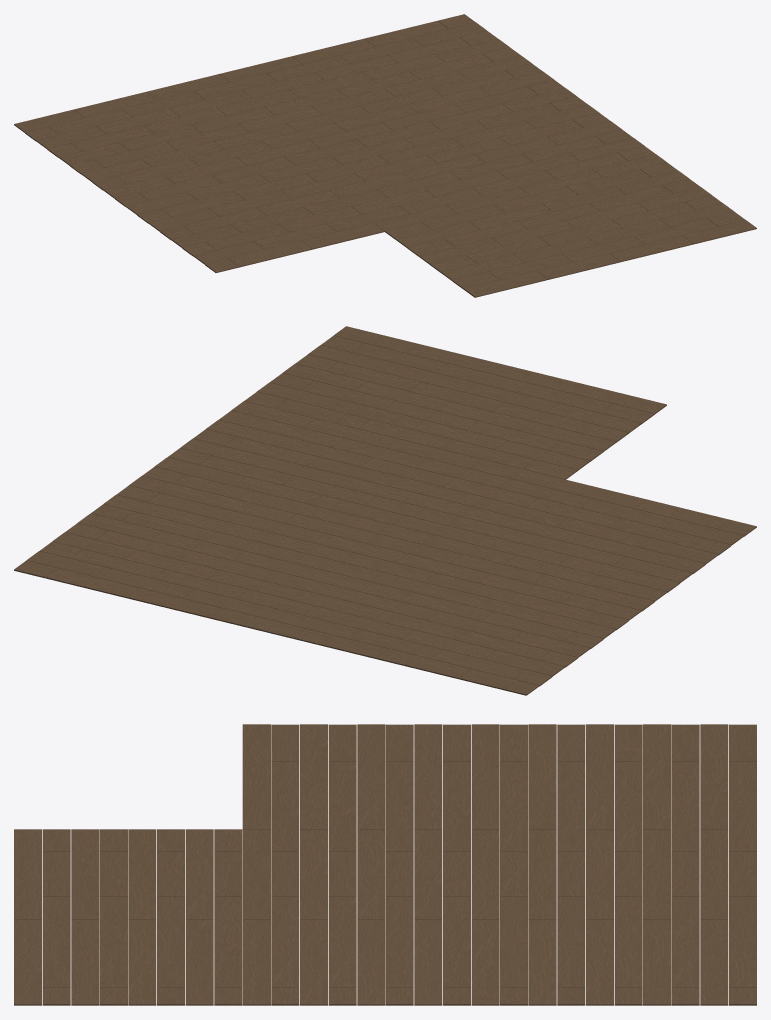
Rendered from floorboards.fbx.
The picture shows the model from 3 angles, top to bottom: view 1: azimuth 30°, elevation 25°; view 2: azimuth 150°, elevation 25°; view 3: azimuth 270°, elevation 25°; orthographic projection. The views are drawn at different scales.
Parts seen in each view (by area): view 1: floorboards; view 2: floorboards; view 3: floorboards.
Part boxes in pixels (x1=…): floorboards: x1=14, y1=14, x2=756, y2=297; floorboards: x1=14, y1=326, x2=756, y2=695; floorboards: x1=14, y1=724, x2=756, y2=1005.
Bounding box in the file's own units: 20.84 × 0.0475 × 23.38.
